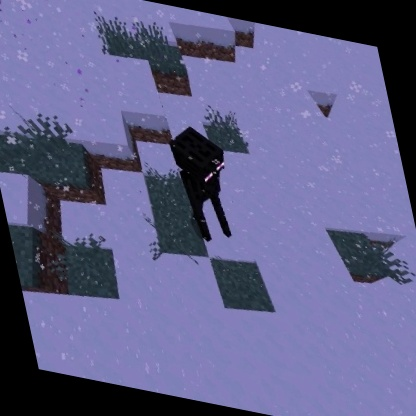enderman: (162, 118, 249, 252)
